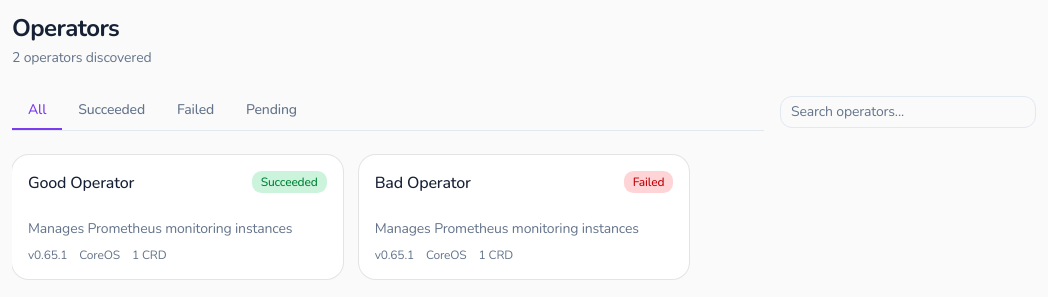
Scenario: OperatorsClient › filters to only Succeeded operators when that tab is clicked
This screenshot has width=1048, height=297.
Expected: the text "Good Operator" is shown, left=28, top=171, right=134, bottom=195
Click the button "Succeeded".
click(112, 111)  # box left=62, top=92, right=161, bottom=130
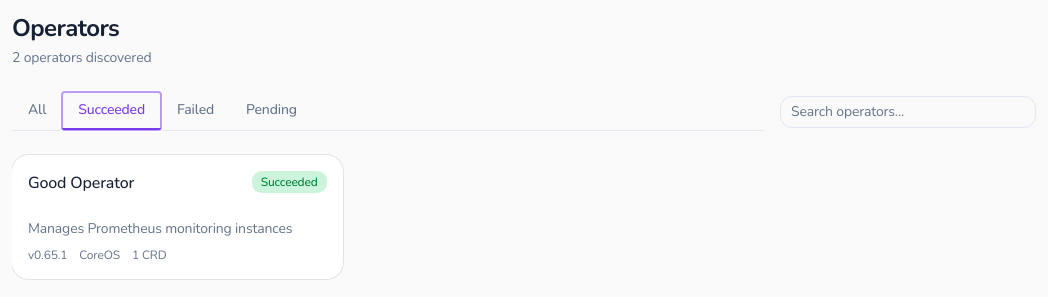
Expected: the text "Good Operator" is shown, left=28, top=171, right=134, bottom=195
Expected: the link "Bad Operator" is gone
